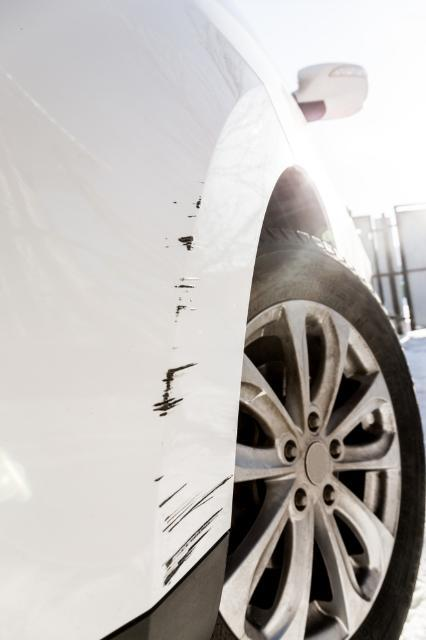Door: (132, 147, 269, 573)
